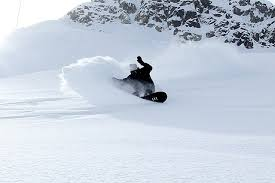snowboarder: (109, 49, 178, 114)
